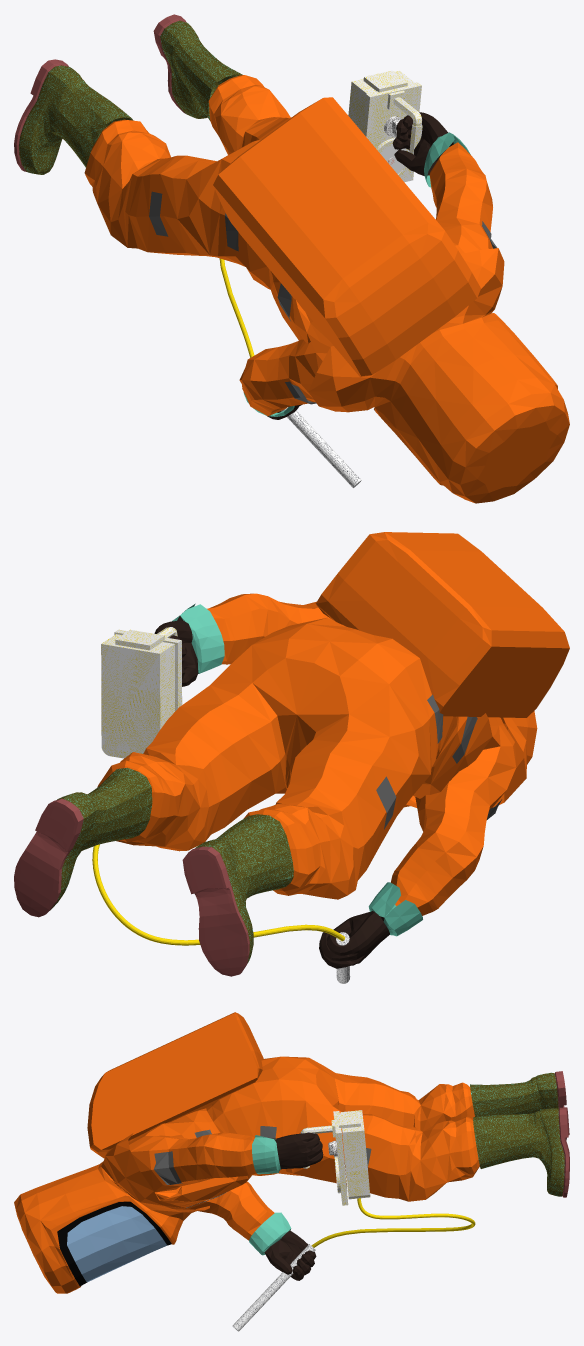
3 renders of one model, top to bottom at view 1: azimuth 30°, elevation 25°; view 2: azimuth 150°, elevation 25°; view 3: azimuth 270°, elevation 25°, orthographic. The views are drawn at different scales.
Visible parts, largest first — view 1: geiger counter; view 2: geiger counter; view 3: geiger counter.
Part boxes in pixels (bbox=[...]): geiger counter: bbox=[14, 14, 569, 503]; geiger counter: bbox=[14, 532, 569, 983]; geiger counter: bbox=[14, 1012, 569, 1331].
Size of the model in its own units: 16.09 by 23.02 by 37.93.
